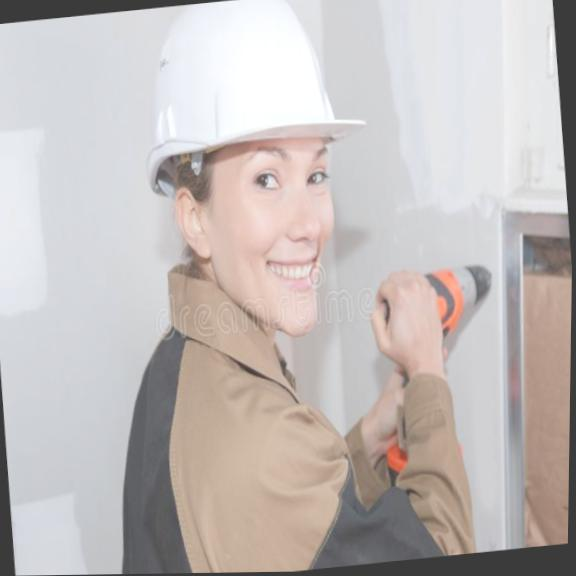no_safety_vest: (95, 298, 475, 574)
